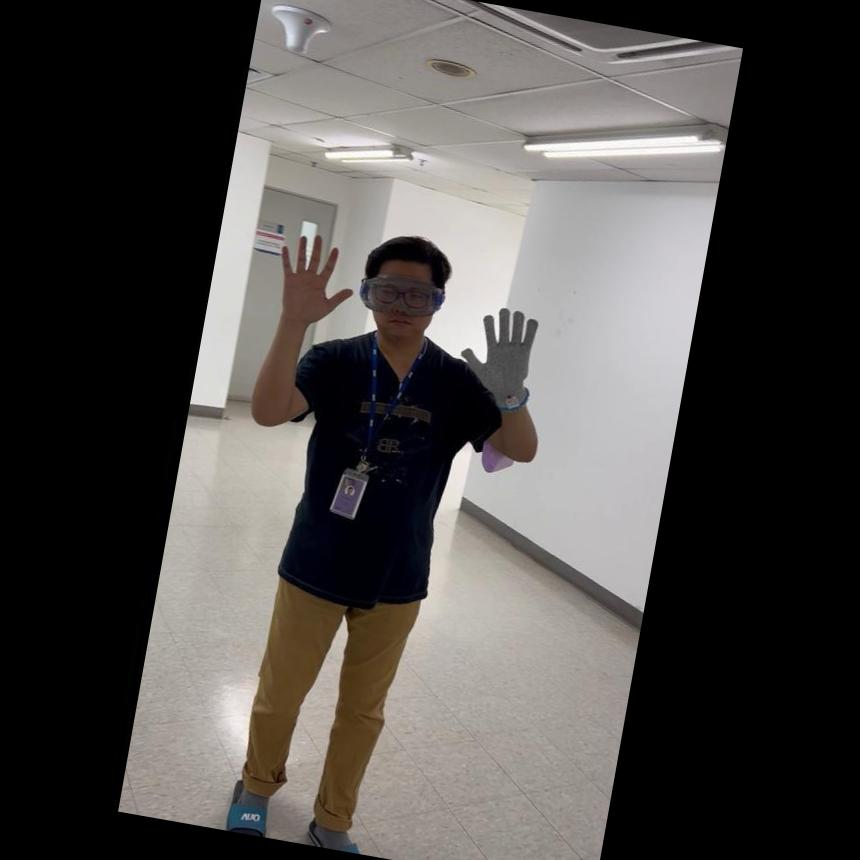Gloves: (450, 298, 546, 414)
No-gloves: (266, 224, 358, 327)
